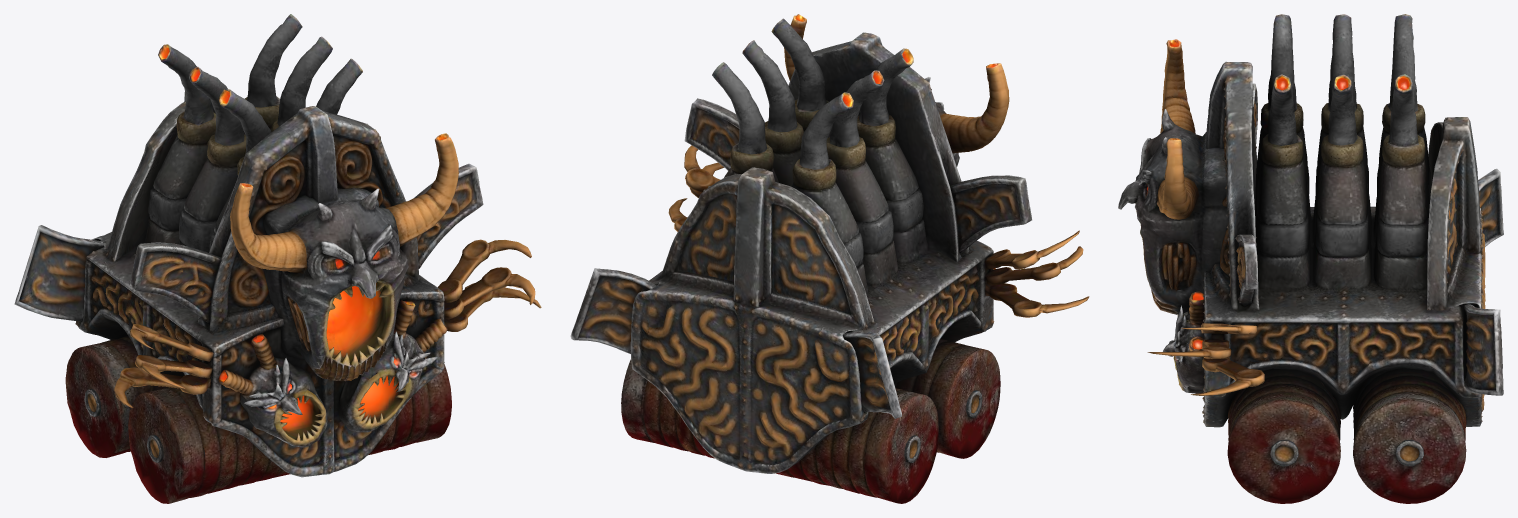
Rendered from MZ4250 - Hellfire Engine.glb.
The picture shows the model from 3 angles, left to right: view 1: azimuth 30°, elevation 25°; view 2: azimuth 150°, elevation 25°; view 3: azimuth 270°, elevation 25°; orthographic projection.
Visible parts, largest first — view 1: ORGANIC BASE SPHERE.002; view 2: ORGANIC BASE SPHERE.002; view 3: ORGANIC BASE SPHERE.002.
Part boxes in pixels (box(x1,y1,x2,y2)): ORGANIC BASE SPHERE.002: box(14, 14, 541, 503); ORGANIC BASE SPHERE.002: box(570, 14, 1089, 503); ORGANIC BASE SPHERE.002: box(1118, 14, 1503, 503).
Size of the model in its own units: 2.3 by 2.09 by 1.85.
1 material, 1 textured.
